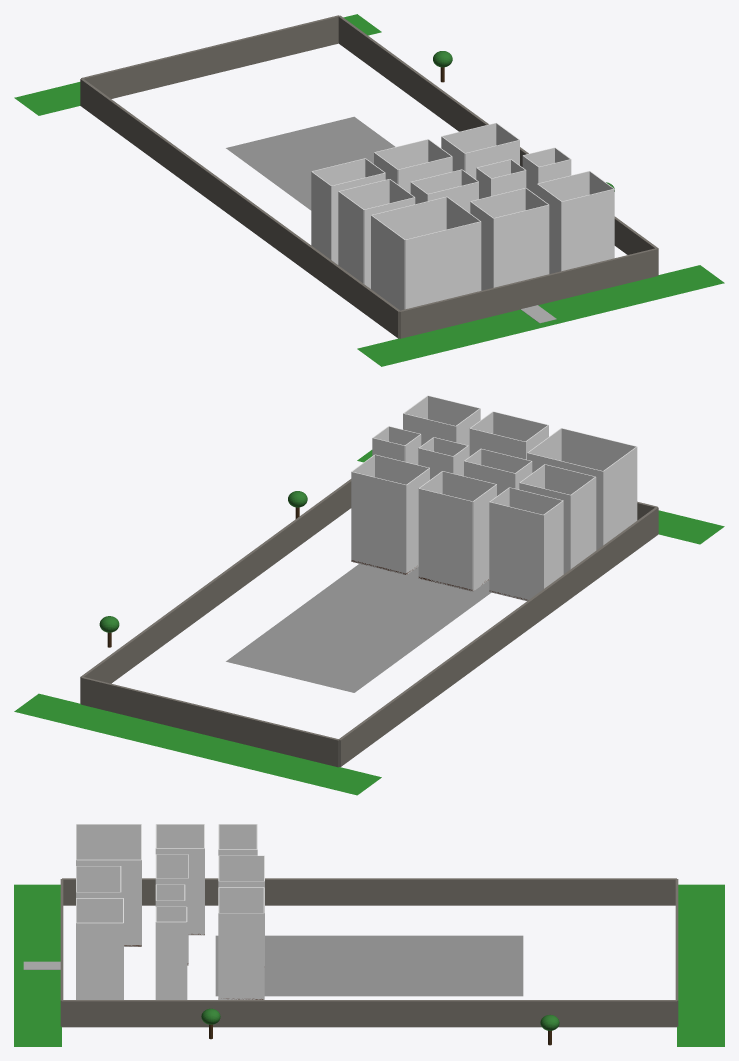
File: enhanced_boq_e0a3f710-82f9-4d80-b644-7f1e2e03b851.obj
3 renders of one model, top to bottom at view 1: azimuth 30°, elevation 25°; view 2: azimuth 150°, elevation 25°; view 3: azimuth 270°, elevation 25°, orthographic. The views are drawn at different scales.
Parts seen in each view (by area): view 1: ExteriorWall_West, FrontYard, ExteriorWall_South, ExteriorWall_North, Foundation, SouthWall_Living_Room_1, ExteriorWall_East, SouthWall_Bedroom_1, SouthWall_Bedroom_2, WestWall_Living_Room_1, NorthWall_Living_Room_1, WestWall_Bedroom_3 (+18 smaller); view 2: Foundation, ExteriorWall_West, BackYard, ExteriorWall_East, ExteriorWall_North, NorthWall_Store_Room_1, NorthWall_Utility_Room_1, NorthWall_Dining_Room_1, WestWall_Living_Room_1, WestWall_Bedroom_3, SouthWall_Living_Room_1, WestWall_Utility_Room_1 (+16 smaller); view 3: ExteriorWall_East, Foundation, ExteriorWall_West, BackYard, FrontYard, EastWall_Store_Room_1, EastWall_Bedroom_2, EastWall_Bathroom_2, WestWall_Living_Room_1, EastWall_Living_Room_1, EastWall_Bedroom_3, WestWall_Bedroom_2 (+11 smaller).
Boxes of the visible parts, left/top/right/bottom form: ExteriorWall_West: left=80, top=78, right=399, bottom=338; FrontYard: left=357, top=265, right=724, bottom=366; ExteriorWall_South: left=399, top=248, right=657, bottom=338; ExteriorWall_North: left=81, top=15, right=339, bottom=98; Foundation: left=226, top=116, right=395, bottom=210; SouthWall_Living_Room_1: left=405, top=221, right=480, bottom=309; ExteriorWall_East: left=338, top=15, right=658, bottom=275; SouthWall_Bedroom_1: left=493, top=204, right=549, bottom=287; SouthWall_Bedroom_2: left=562, top=189, right=614, bottom=270; WestWall_Living_Room_1: left=371, top=215, right=404, bottom=310; NorthWall_Living_Room_1: left=371, top=196, right=446, bottom=239; WestWall_Bedroom_3: left=338, top=191, right=363, bottom=283; Foundation: left=226, top=564, right=491, bottom=692; ExteriorWall_West: left=339, top=507, right=658, bottom=766; BackYard: left=14, top=693, right=381, bottom=795; ExteriorWall_East: left=80, top=479, right=351, bottom=703; ExteriorWall_North: left=81, top=676, right=339, bottom=767; NorthWall_Store_Room_1: left=351, top=471, right=406, bottom=574; NorthWall_Utility_Room_1: left=418, top=488, right=472, bottom=591; NorthWall_Dining_Room_1: left=489, top=502, right=543, bottom=600; WestWall_Living_Room_1: left=603, top=446, right=637, bottom=544; WestWall_Bedroom_3: left=570, top=477, right=596, bottom=568; SouthWall_Living_Room_1: left=561, top=428, right=636, bottom=470; WestWall_Utility_Room_1: left=473, top=484, right=496, bottom=591; ExteriorWall_East: left=62, top=1000, right=676, bottom=1027; Foundation: left=215, top=935, right=523, bottom=996; ExteriorWall_West: left=62, top=878, right=676, bottom=905; BackYard: left=677, top=884, right=724, bottom=1046; FrontYard: left=14, top=884, right=61, bottom=1046; EastWall_Store_Room_1: left=219, top=913, right=263, bottom=999; EastWall_Bedroom_2: left=76, top=922, right=123, bottom=999; EastWall_Bathroom_2: left=156, top=921, right=186, bottom=999; WestWall_Living_Room_1: left=76, top=824, right=141, bottom=859; EastWall_Living_Room_1: left=76, top=859, right=141, bottom=946; EastWall_Bedroom_3: left=156, top=848, right=204, bottom=935; WestWall_Bedroom_2: left=76, top=898, right=123, bottom=922.
Bounding box in the file's own units: 40.41 × 10 × 74.16.
